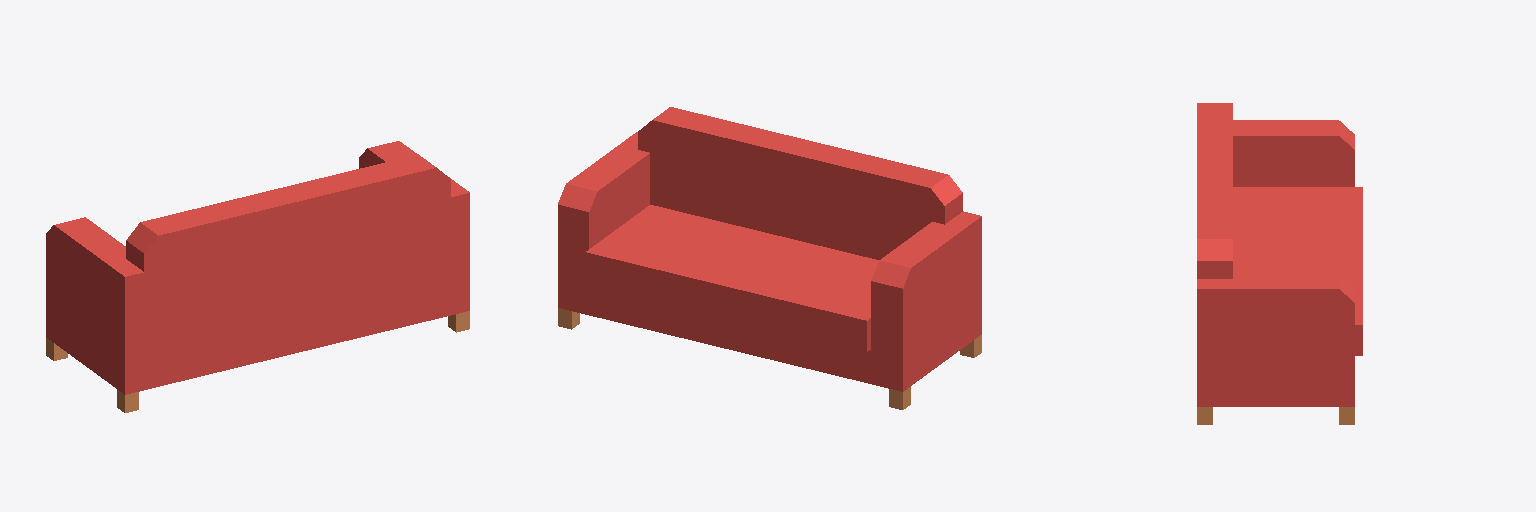
The model's file is loungeSofa.obj.
3 views of the same model, side by side, from view 1: azimuth 30°, elevation 25°; view 2: azimuth 150°, elevation 25°; view 3: azimuth 270°, elevation 25° (orthographic).
Visible parts, largest first — view 1: loungeSofa; view 2: loungeSofa; view 3: loungeSofa.
Part boxes in pixels (bbox=[...]): loungeSofa: bbox=[46, 141, 469, 412]; loungeSofa: bbox=[558, 107, 981, 409]; loungeSofa: bbox=[1197, 103, 1362, 424].
Size of the model in its own units: 0.98 by 0.46 by 0.41.